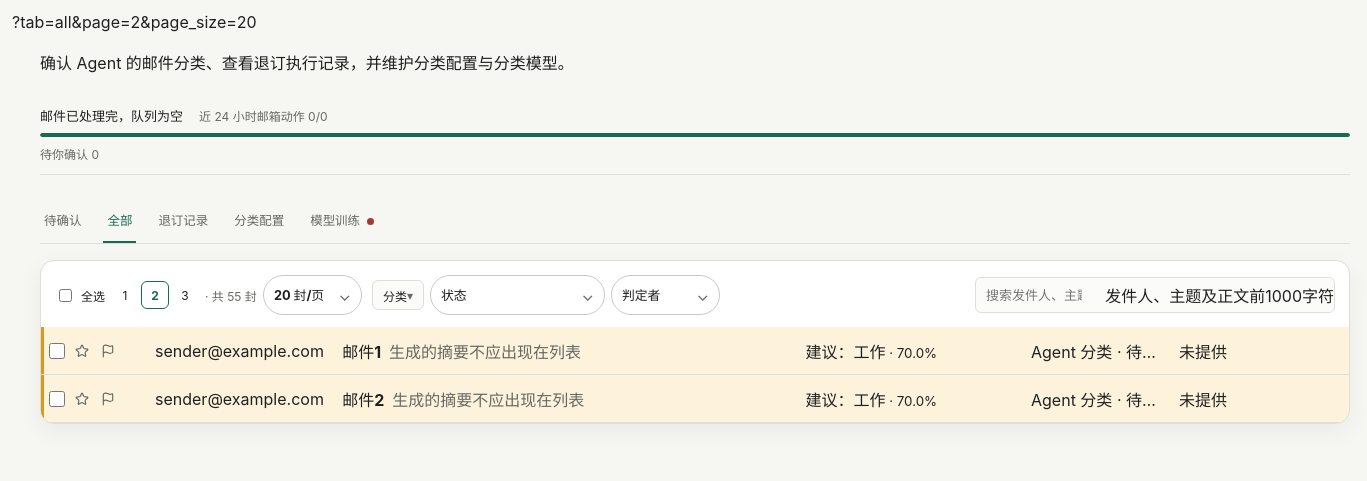
switches the shared list between 待确认, 全部 and 退订记录 tabs and keeps page size in the URL
Expected: the button with aria-label "打开邮件 邮件1" is shown, [41,327,1349,375]
Click the tab "待确认" at (63, 221), box [40,199,85,243]
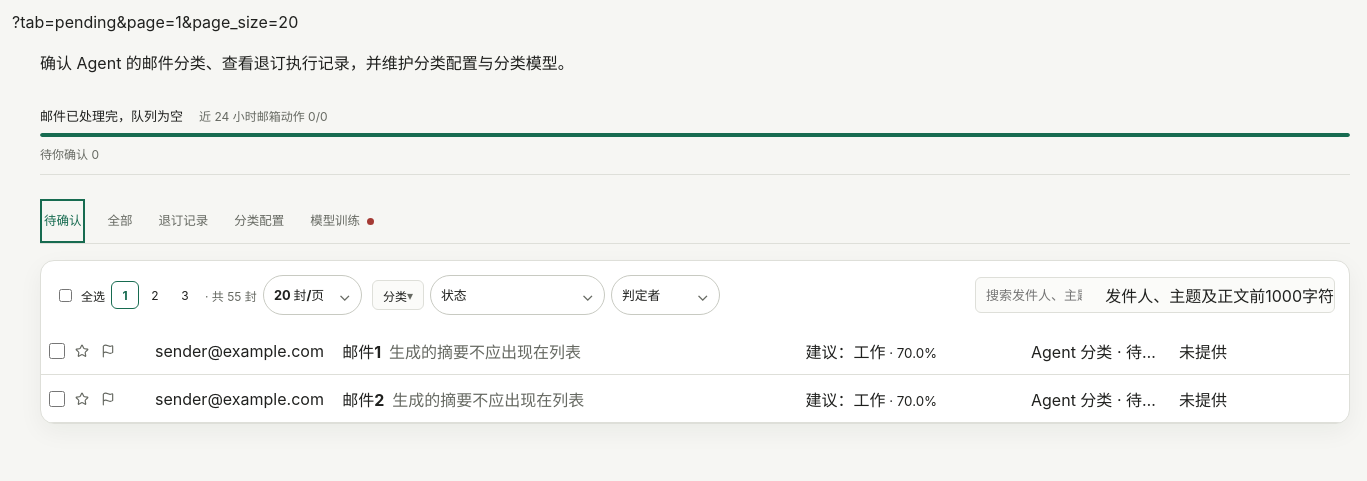
Expected: the text named "URL" shows "page_size=20", [12,12,298,32]
Result: the text named "URL" shows "tab=pending" at [12,12,298,32]
Result: the text named "URL" shows "page=1" at [12,12,298,32]
Click the tab "退订记录" at (183, 221), box [154,199,212,243]
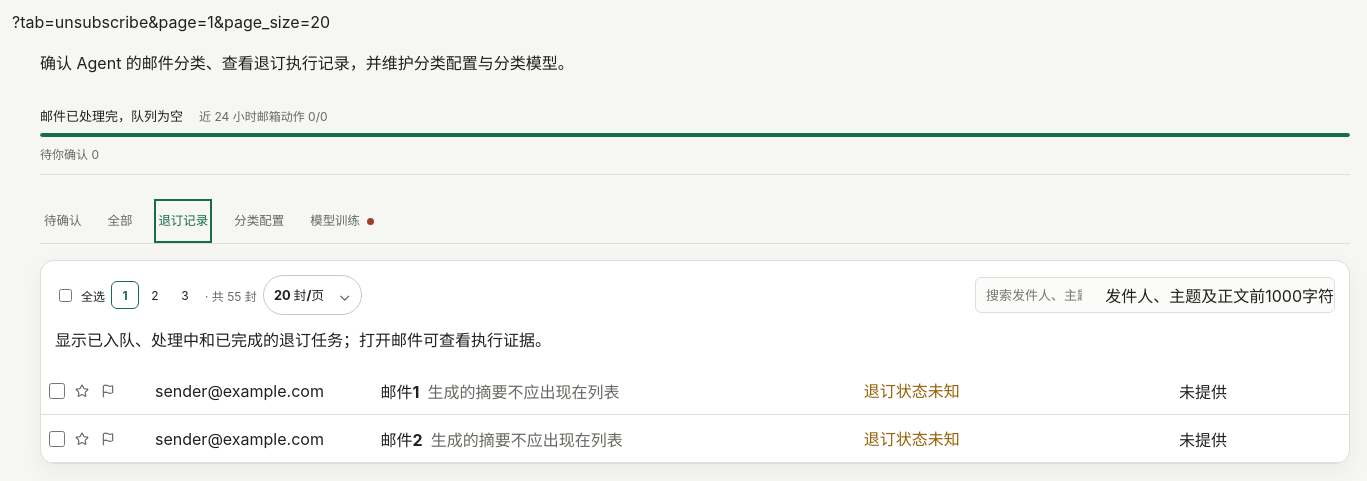
Result: the text "显示已入队、处理中和已完成的退订任务；打开邮件可查看执行证据。" is shown at [55,330,551,350]
